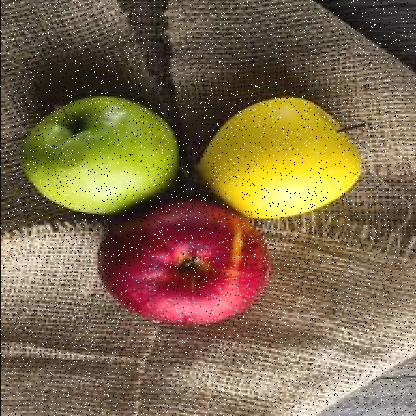apple: (22, 90, 178, 224), (107, 201, 268, 329), (209, 95, 364, 215)
